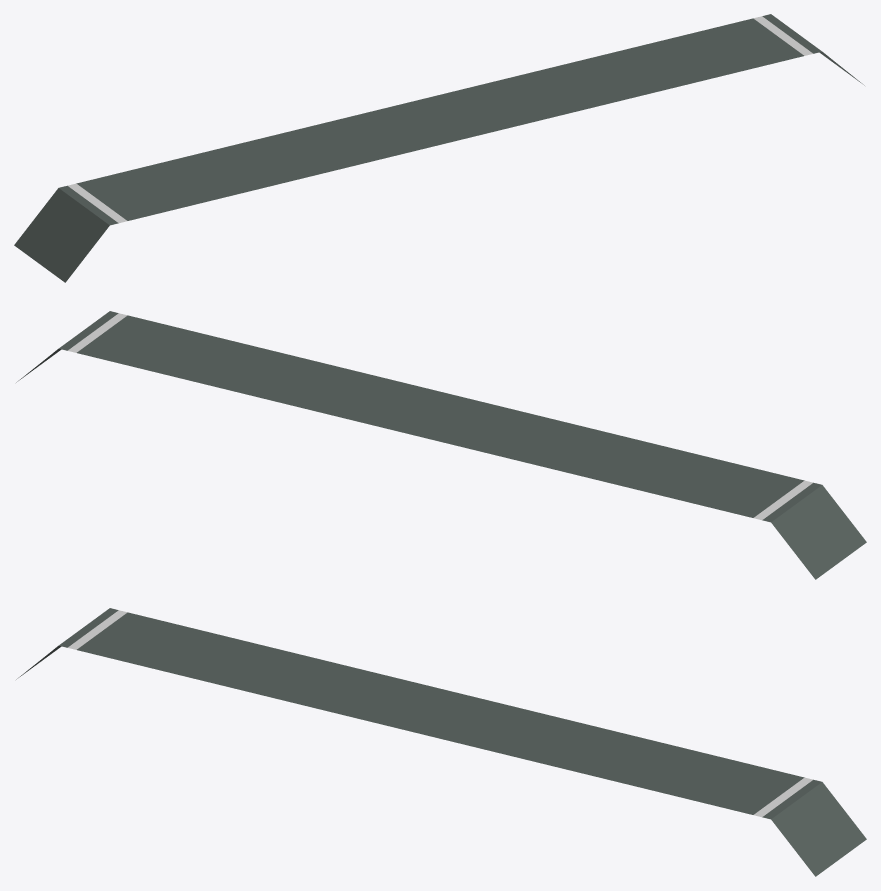
File: Straight_XS.fbx
3 renders of one model, top to bottom at view 1: azimuth 30°, elevation 25°; view 2: azimuth 150°, elevation 25°; view 3: azimuth 330°, elevation 25°, orthographic.
Parts seen in each view (by area): view 1: Plane; view 2: Plane; view 3: Plane.
Boxes of the visible parts, box(x1,y1,x2,y2) form: Plane: box(14, 14, 864, 282); Plane: box(16, 311, 866, 579); Plane: box(16, 608, 866, 876).
Size of the model in its own units: 18 by 1 by 2.
